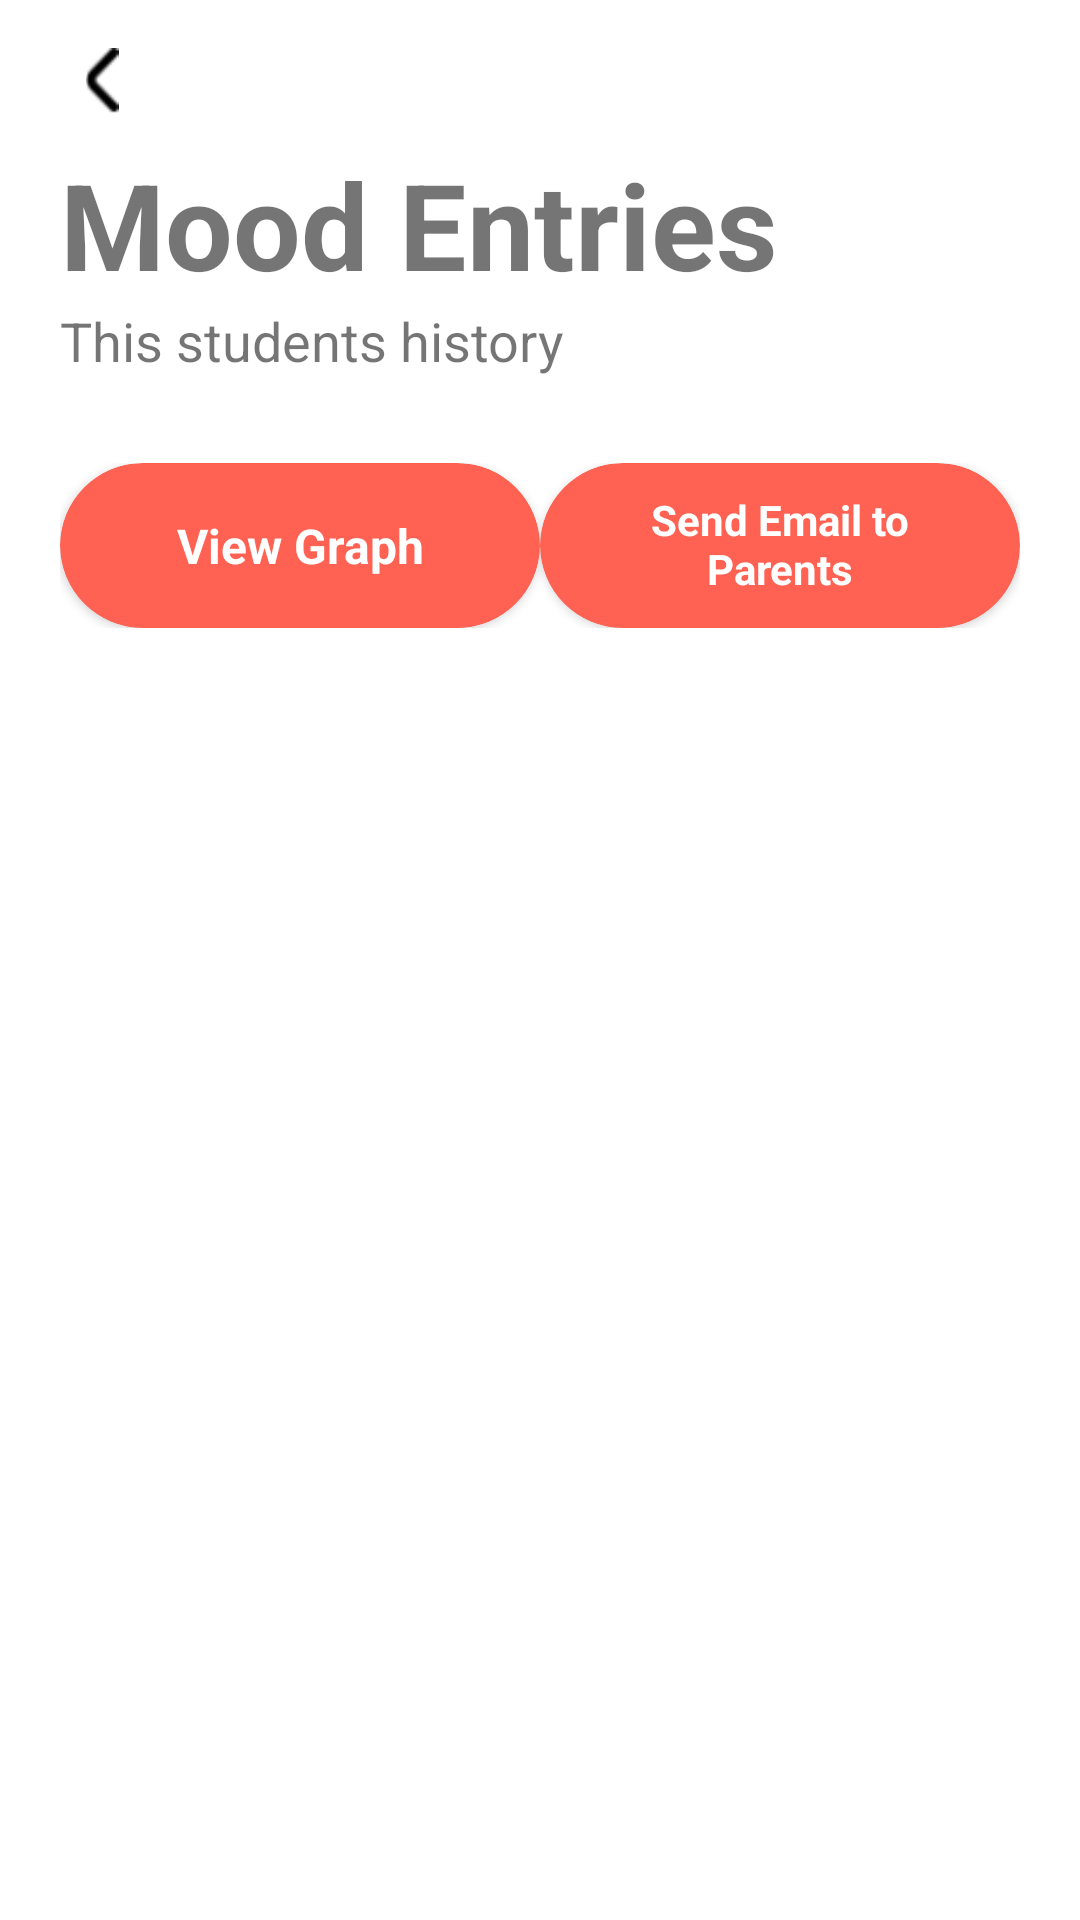

Icons on this 1080px x 1920px Android screen, each with its box as (x1, y1, x2, y2):
back: (86, 48, 119, 113)
